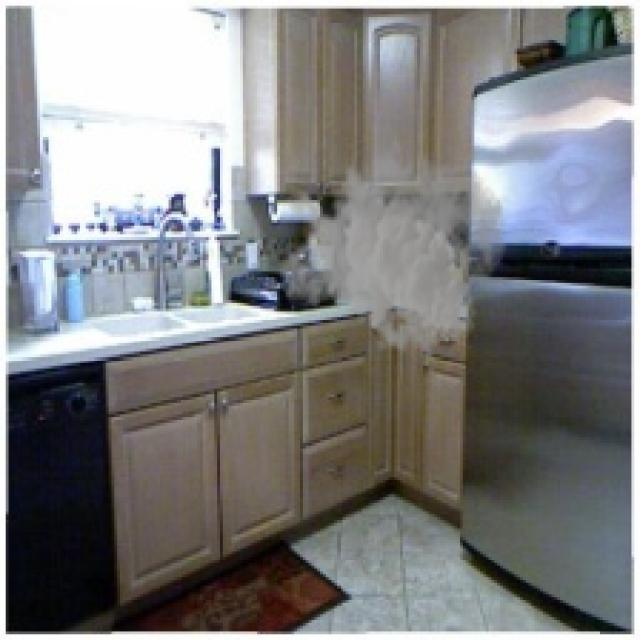Smoke: (277, 128, 509, 363)
